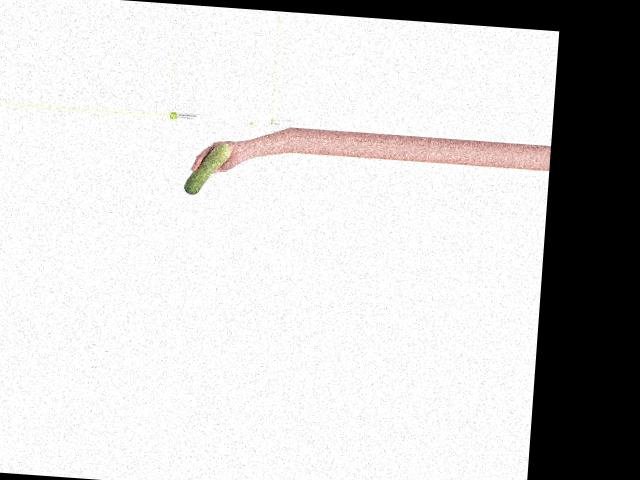cucumber: (184, 141, 232, 196)
